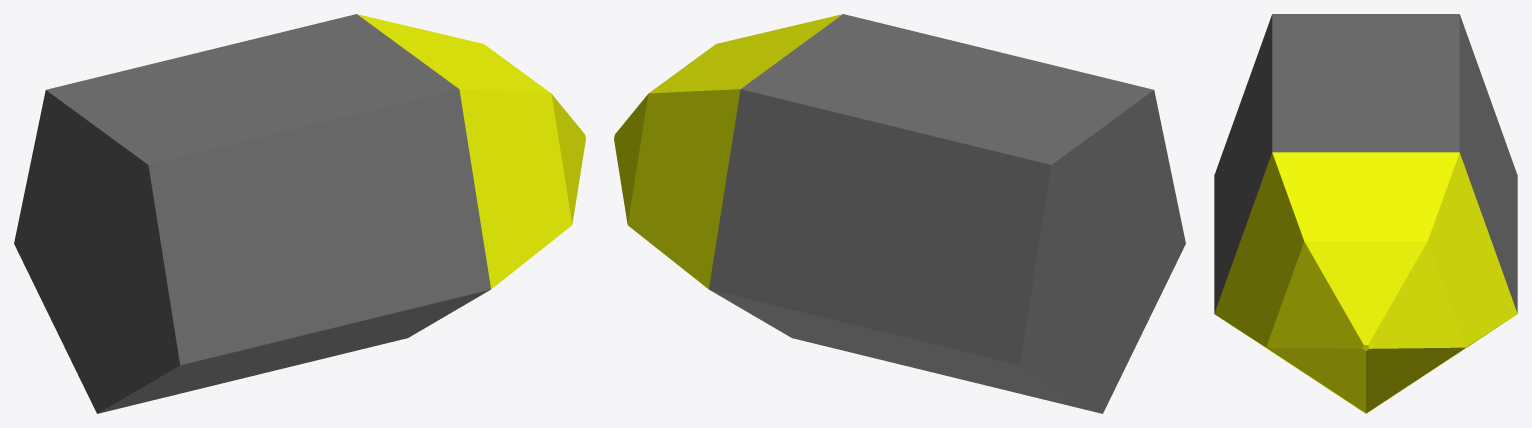
The model's file is Revolver bullet yellow.FBX.
The picture shows the model from 3 angles, left to right: view 1: azimuth 30°, elevation 25°; view 2: azimuth 150°, elevation 25°; view 3: azimuth 270°, elevation 25°; orthographic projection. The views are drawn at different scales.
Parts seen in each view (by area): view 1: Revolver bullet, Object001; view 2: Revolver bullet, Object001; view 3: Object001, Revolver bullet.
Boxes of the visible parts, box(x1,y1,x2,y2) form: Revolver bullet: box(14, 14, 490, 413); Object001: box(357, 14, 585, 289); Revolver bullet: box(709, 14, 1185, 413); Object001: box(614, 14, 842, 289); Object001: box(1214, 152, 1517, 413); Revolver bullet: box(1214, 14, 1517, 313).
Bounding box in the file's own units: 5.53 × 3.11 × 3.27.
